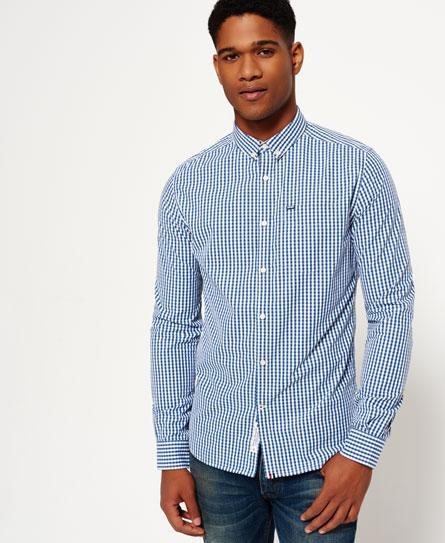teeshirt: (148, 126, 418, 482)
